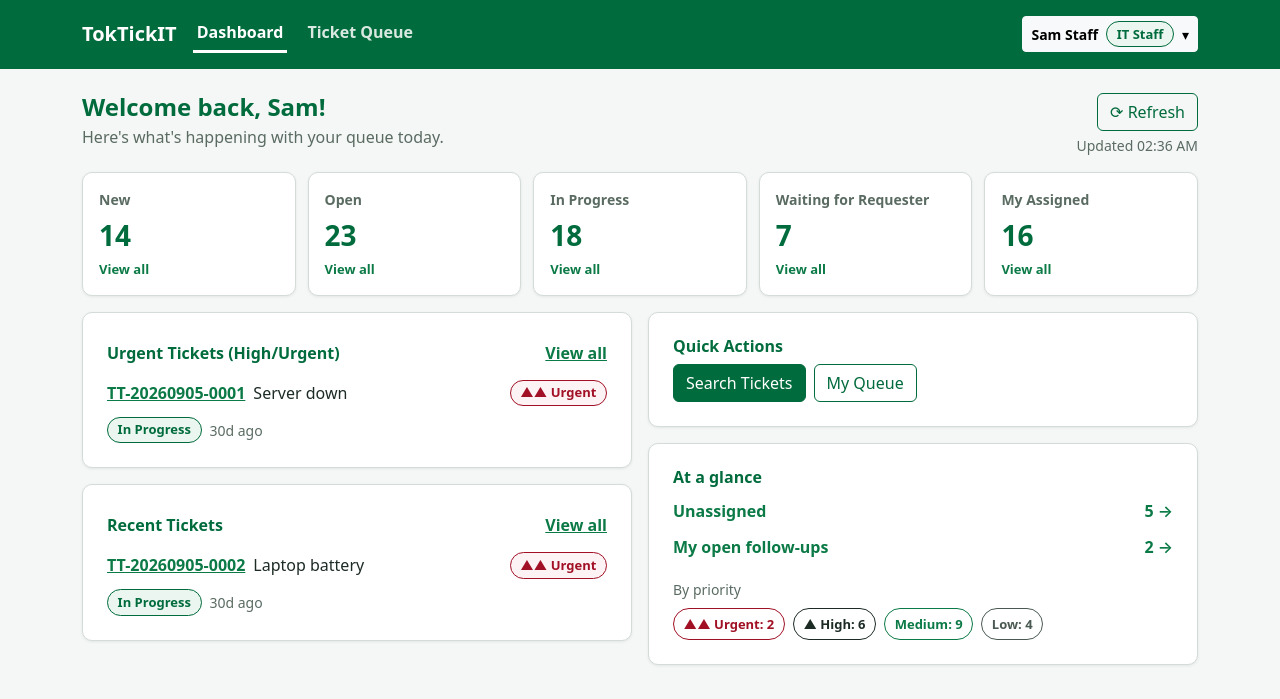
Test: Staff Dashboard — metric cards and drill-down (AC-24, AC-25) › drills into 'My open follow-ups' with followUpFor=me
Expected: the heading "Welcome back, Sam!" is shown, [82, 90, 326, 123]
Click the button "My open follow-ups 2 →". click: (751, 547)
box: [673, 532, 1173, 564]
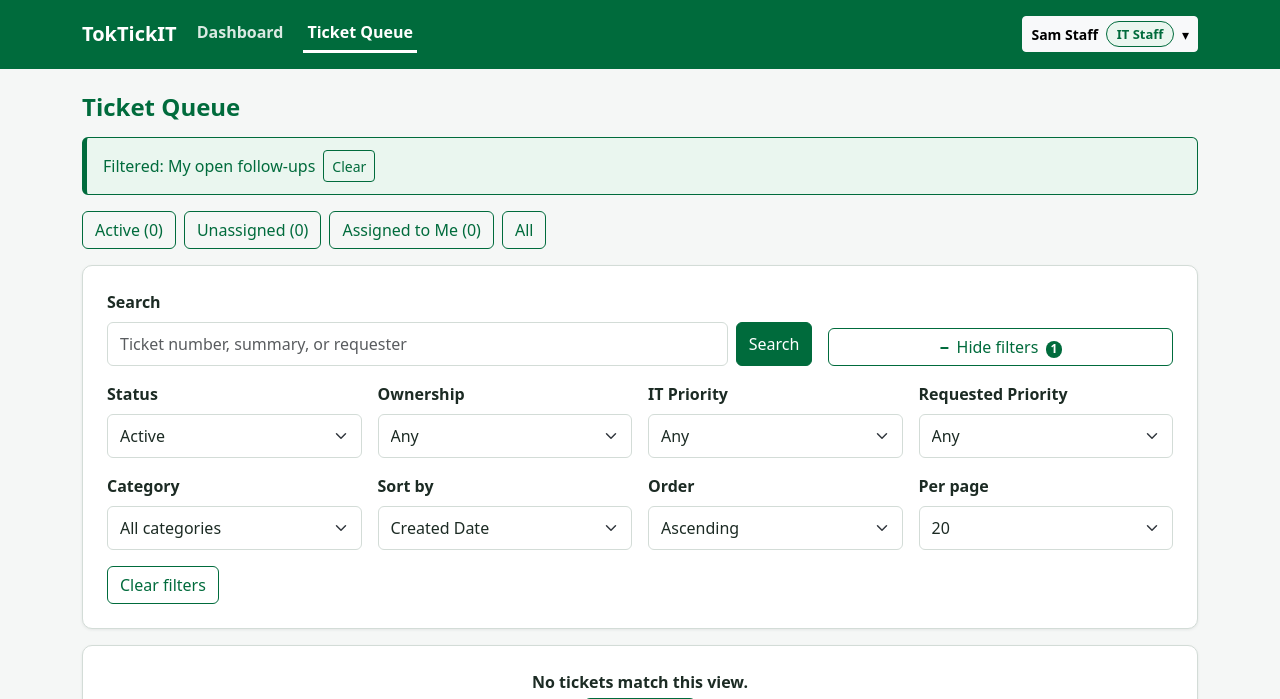
Expected: the heading "Ticket Queue" is shown, [82, 90, 240, 123]
